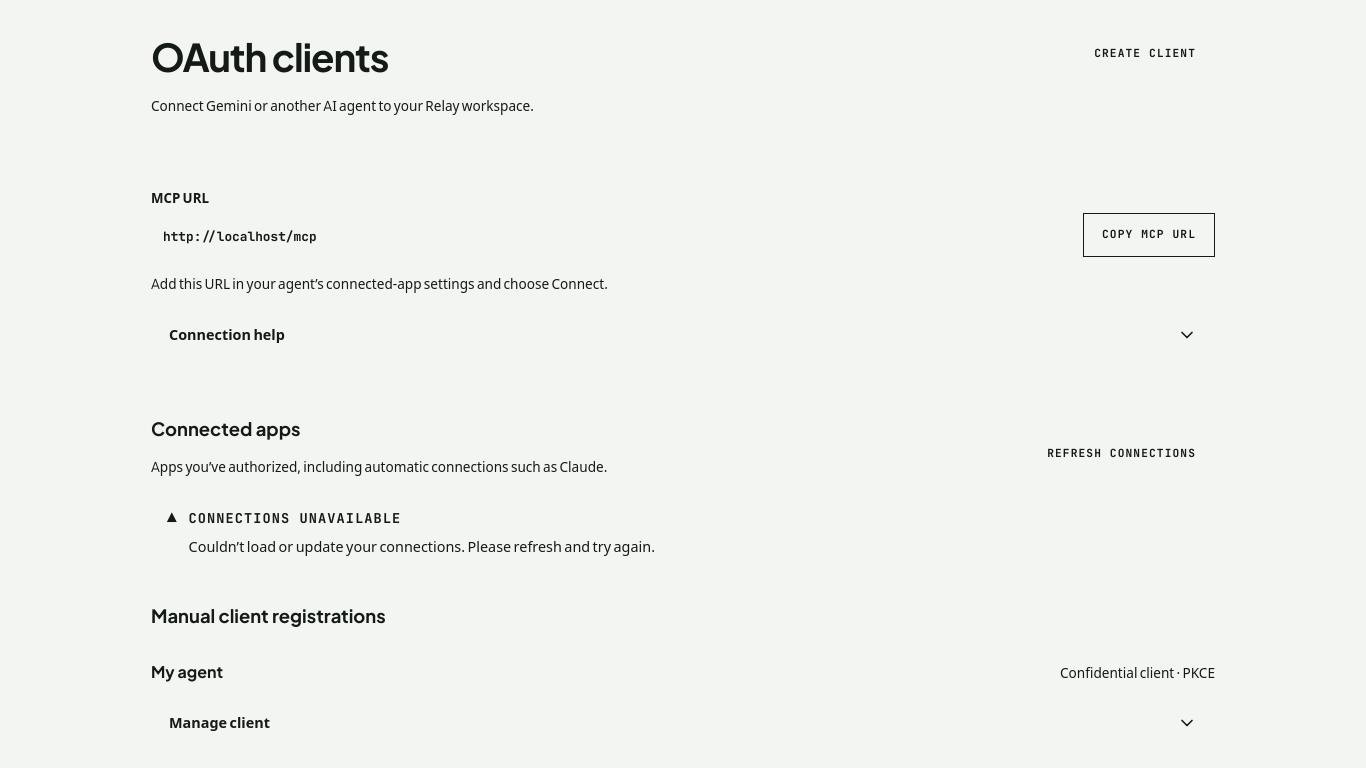
Test: requires confirmation and refresh after an ambiguous rotation
Click the text "Manage client". click: (219, 723)
box: top-left (169, 712), bottom-right (270, 734)
(page scrolled)
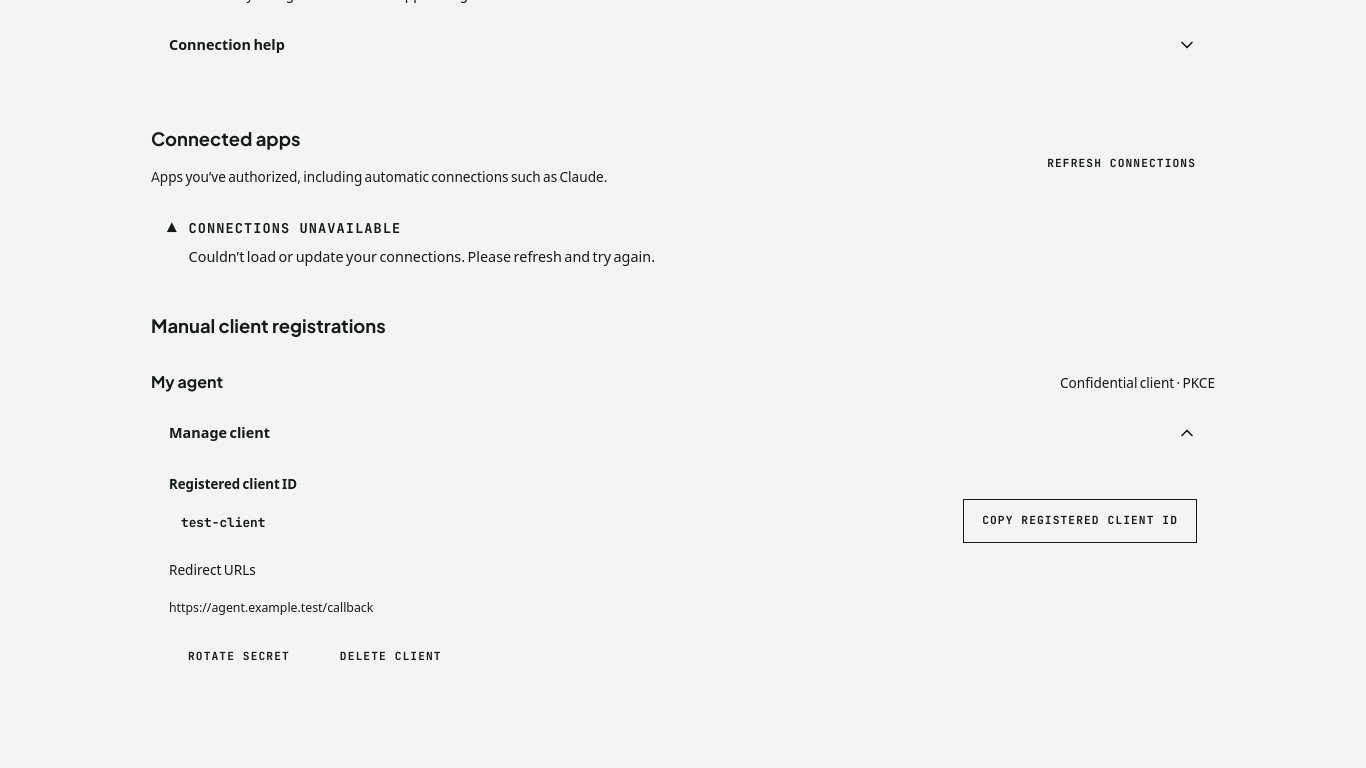
Click the button "Rotate secret". click: (239, 656)
box: top-left (169, 634), bottom-right (309, 678)
(page scrolled)
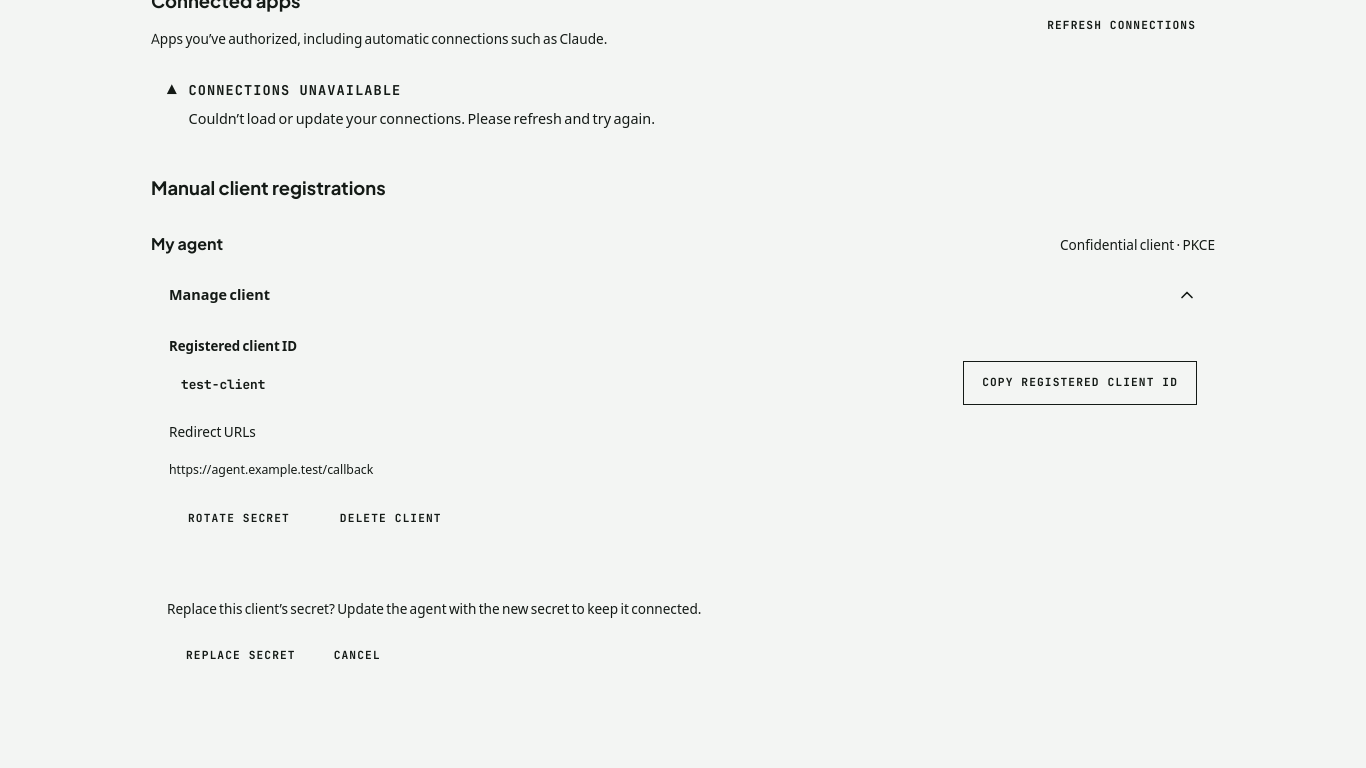
Click the button "Replace secret". click: (241, 656)
box: top-left (167, 634), bottom-right (315, 678)
(page scrolled)
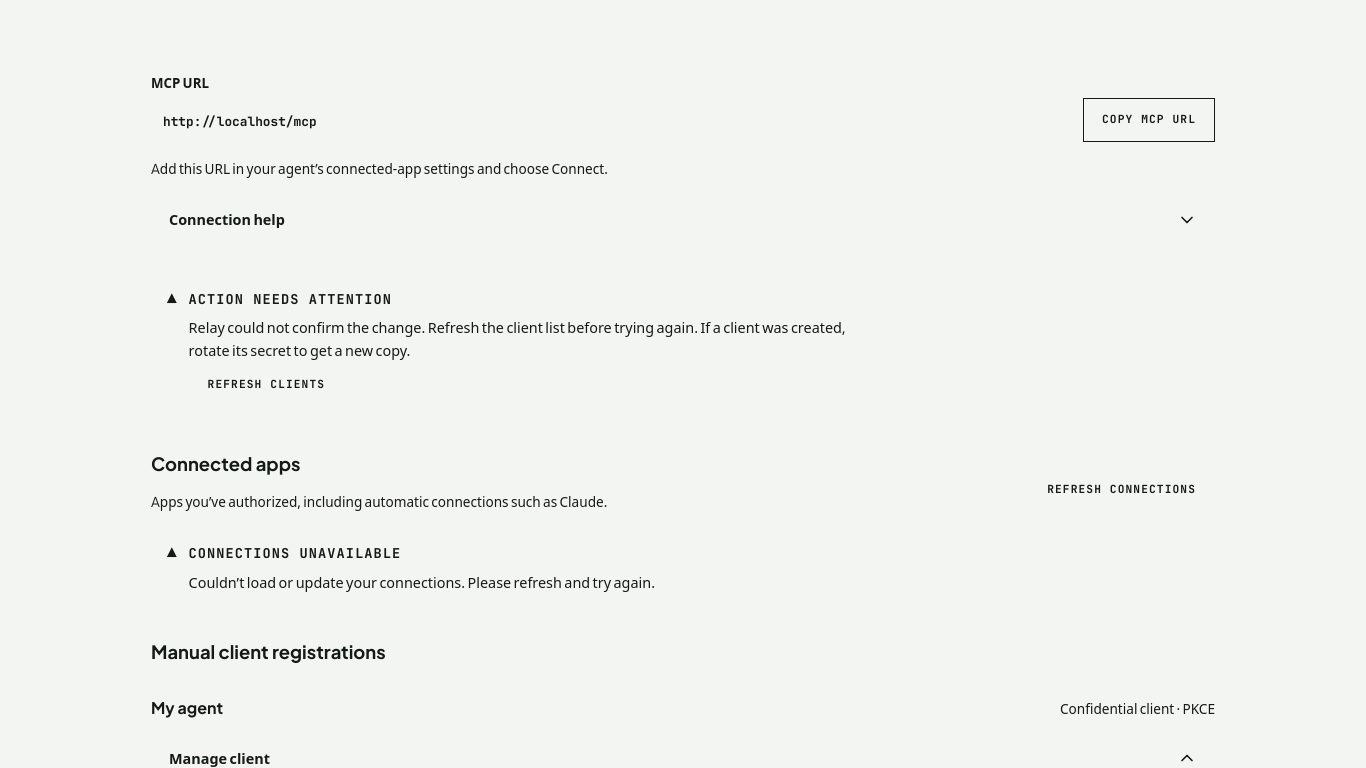
Expected: the button "Refresh clients" is shown
Click the button "Refresh clients". click: (266, 384)
box: top-left (189, 362), bottom-right (344, 406)
(page scrolled)
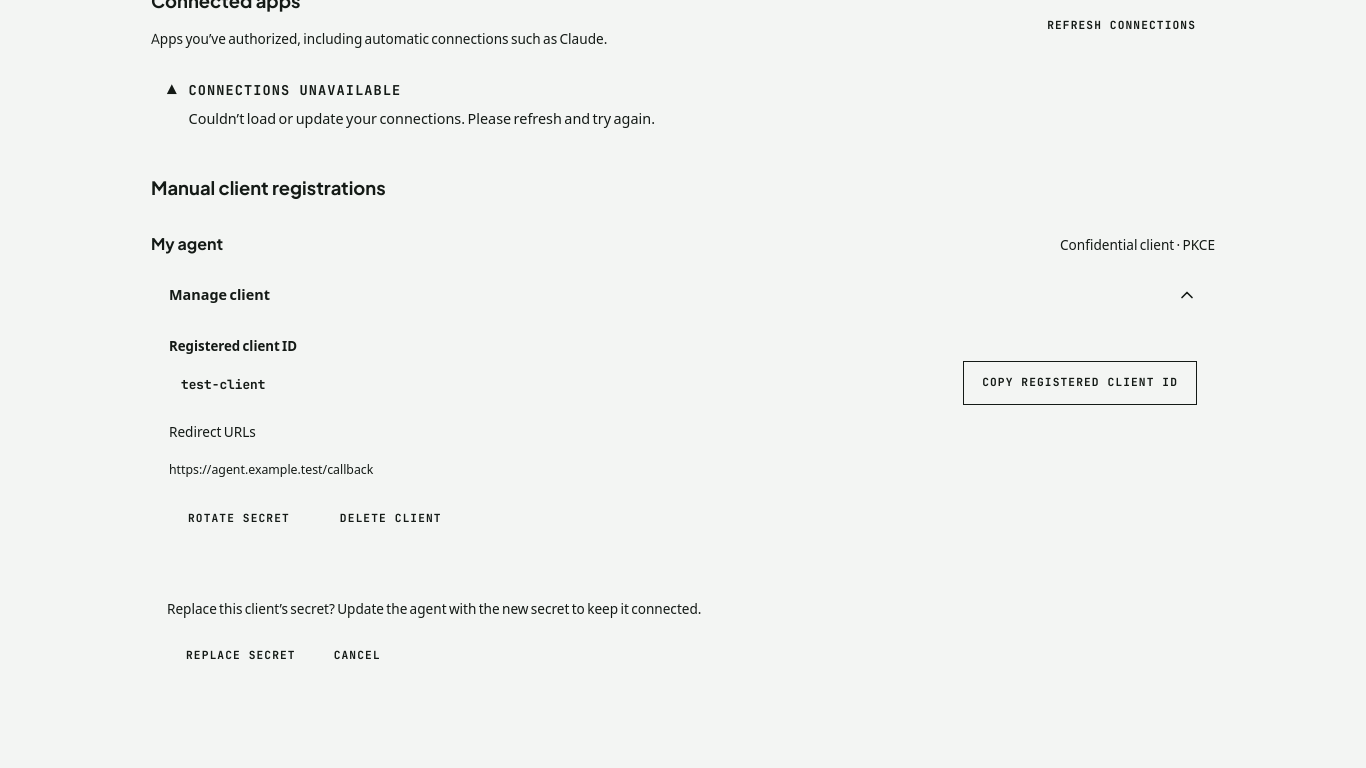
Expected: the button "Rotate secret" is enabled, top-left (169, 496), bottom-right (309, 540)
